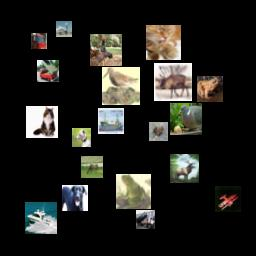airplane: (215, 186, 241, 212), (56, 21, 72, 37)
bird: (102, 67, 140, 105), (170, 103, 202, 135), (90, 34, 122, 66)
cat: (146, 25, 181, 60), (26, 106, 58, 138)
deer: (154, 63, 192, 101), (170, 154, 199, 183), (81, 156, 103, 178)
dog: (62, 185, 88, 211), (72, 128, 91, 147)
frog: (116, 174, 151, 209), (197, 76, 223, 102), (149, 122, 168, 141)
ship: (25, 202, 57, 234), (98, 108, 124, 134)
truck: (37, 60, 59, 82), (136, 210, 155, 229), (31, 33, 47, 49)
